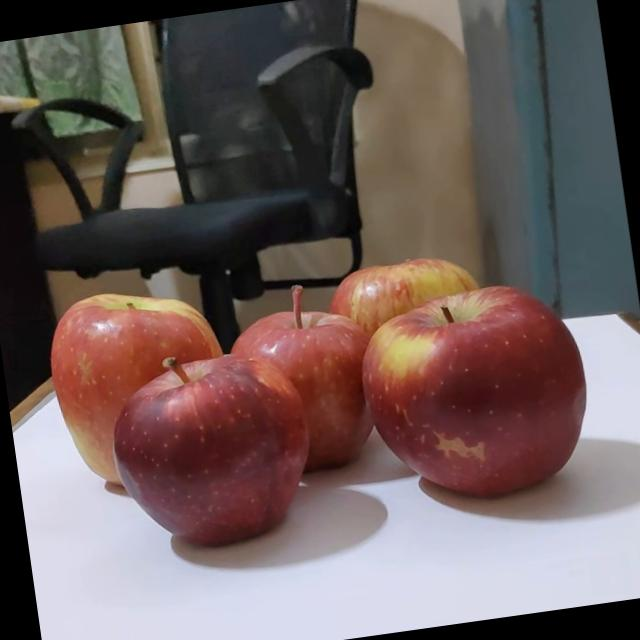apple: (346, 275, 602, 516), (105, 348, 323, 557), (38, 280, 235, 502), (214, 279, 390, 485), (316, 237, 502, 385)
